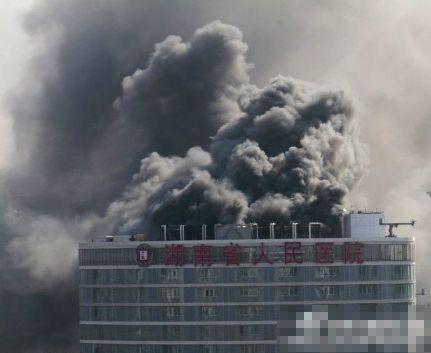smoke: (80, 32, 354, 219)
